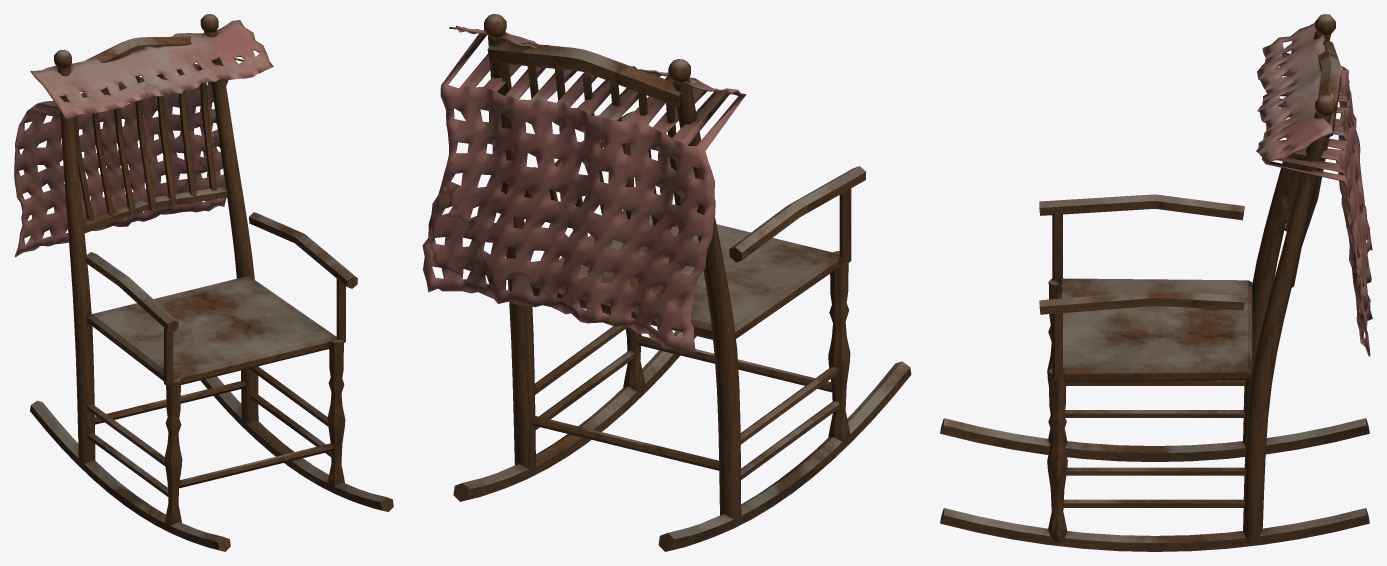
File: RockingChair.fbx
The picture shows the model from 3 angles, left to right: view 1: azimuth 30°, elevation 25°; view 2: azimuth 150°, elevation 25°; view 3: azimuth 270°, elevation 25°; orthographic projection. The views are drawn at different scales.
Visible parts, largest first — view 1: RockingChair; view 2: RockingChair; view 3: RockingChair.
Part boxes in pixels (x1,y1,x2,y2): RockingChair: (14, 14, 393, 551); RockingChair: (422, 14, 911, 551); RockingChair: (940, 14, 1372, 551).
Size of the model in its own units: 1.98 by 3.37 by 2.93.
1 material, 1 textured.
